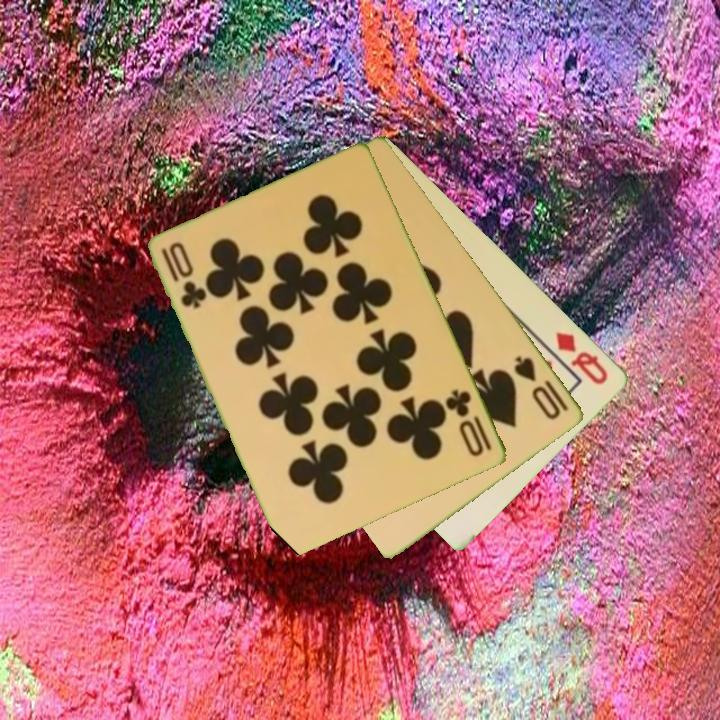10c: (442, 386, 495, 460), (158, 238, 208, 312)
10s: (511, 352, 572, 423)
Qd: (552, 328, 612, 388)
